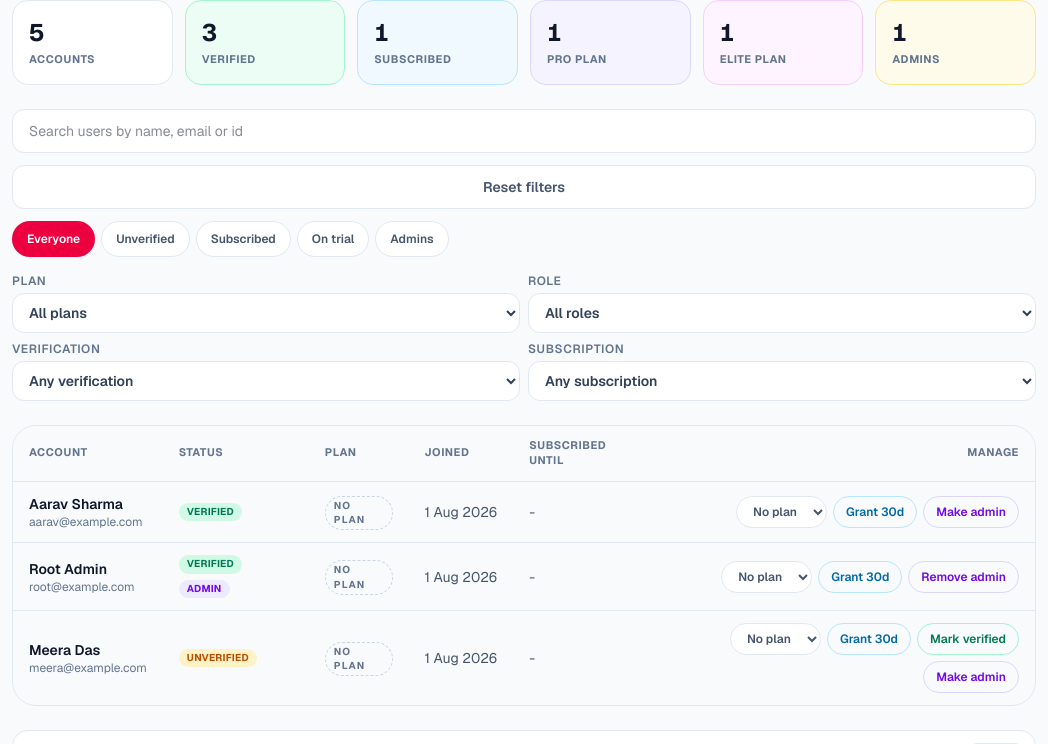
Test case: AdminUsers › says so when a search matches nothing
Expected: the table is shown, [13, 426, 1035, 705]
Type "zzzz" into the search field named "Search accounts".
click(524, 130); type("zzzz")  # box [12, 108, 1036, 152]
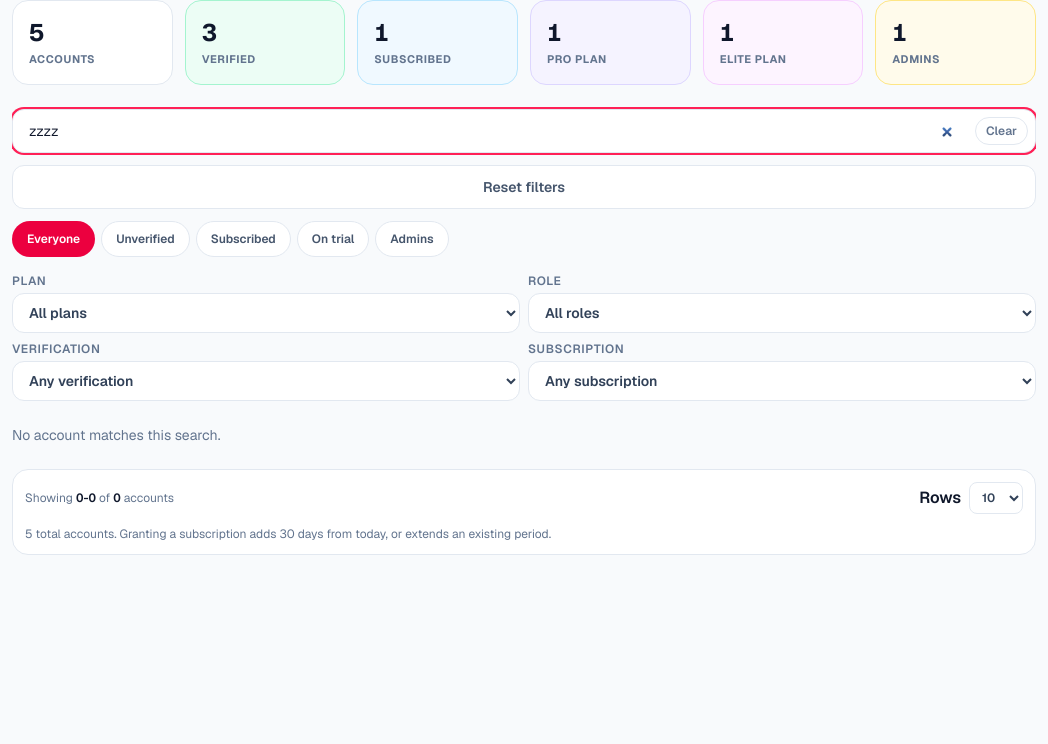
Expected: the text "No account matches this search." is shown, [12, 426, 221, 444]
